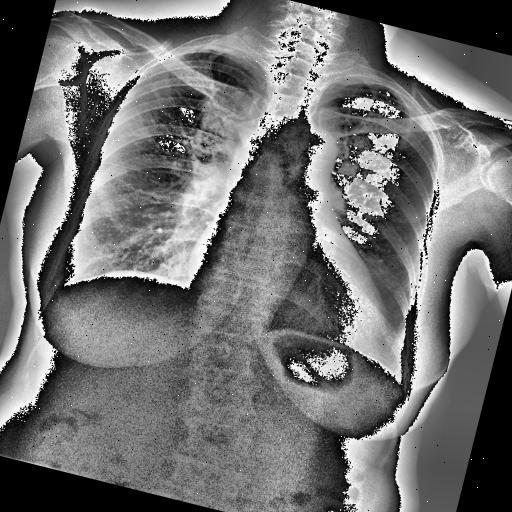0- Aortic enlargement: (282, 120, 343, 180)
3- Cardiomegaly: (180, 226, 401, 356), (177, 244, 397, 360), (176, 246, 394, 354)
